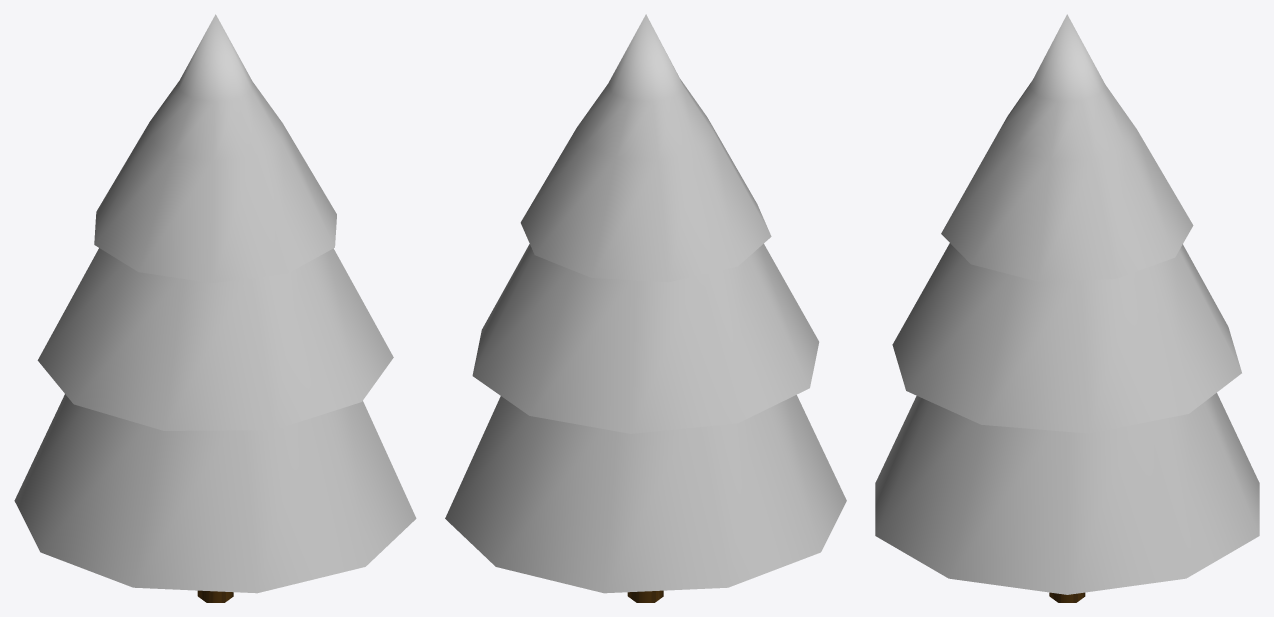
The model's file is mod_prop_tree_pine_3.fbx.
3 renders of one model, left to right at view 1: azimuth 30°, elevation 25°; view 2: azimuth 150°, elevation 25°; view 3: azimuth 270°, elevation 25°, orthographic.
Visible parts, largest first — view 1: mod_prop_tree_pine_3; view 2: mod_prop_tree_pine_3; view 3: mod_prop_tree_pine_3.
Boxes of the visible parts, left/top/right/bottom form: mod_prop_tree_pine_3: left=14, top=14, right=416, bottom=602; mod_prop_tree_pine_3: left=445, top=14, right=846, bottom=602; mod_prop_tree_pine_3: left=875, top=14, right=1259, bottom=602.
Bounding box in the file's own units: 208 × 331 × 198.
